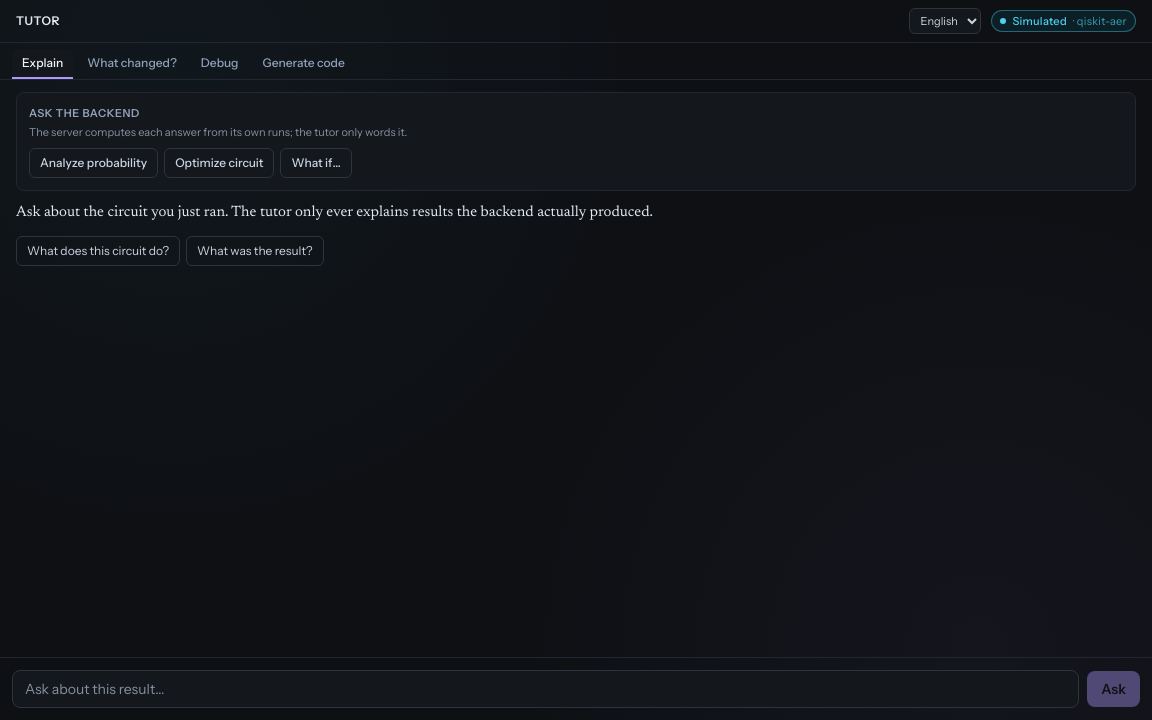
it: Analyze probability › asks with a typed target and the result id — and shows the server’s number with its provenance
The width and height of the screenshot is (1152, 720).
Step 1. Click the button "Analyze probability" → (94, 163), box [29,148,158,178]
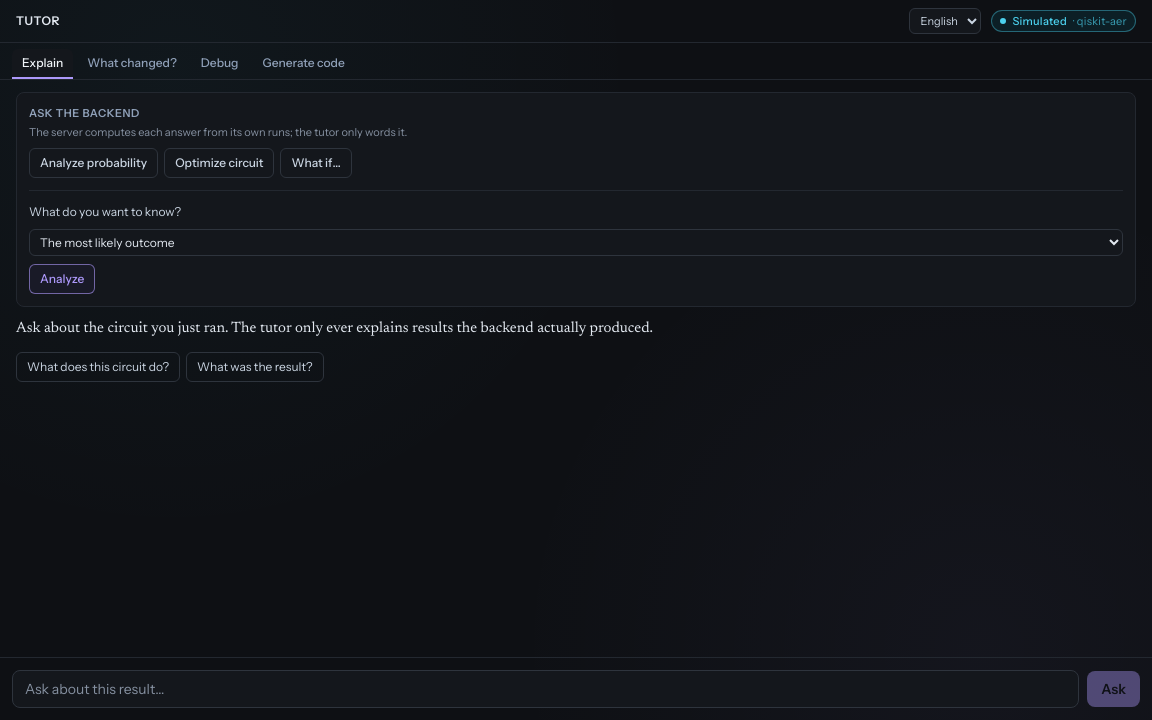
Step 2. Click the button "Analyze" → (62, 279), box [29,264,95,294]
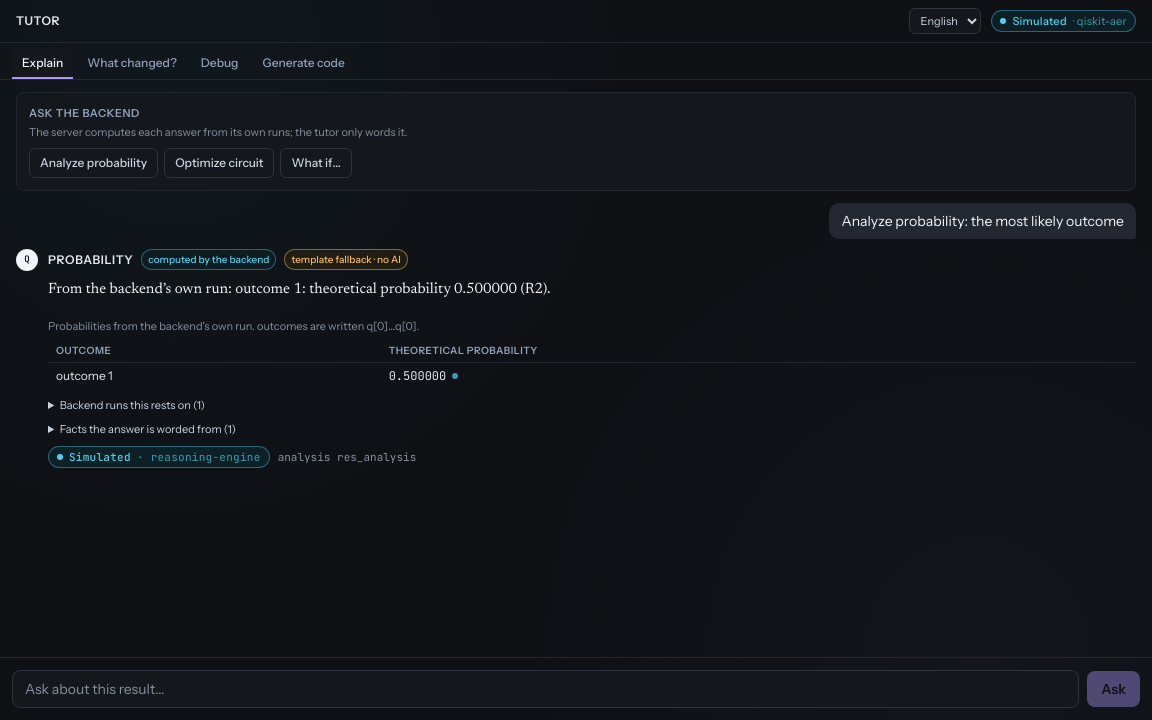
Check: the text "0.500000" is shown, box [389,367,458,385]
Check: the element "Probabilities from the backend" is shown, box [48,318,1136,389]
Check: the element with test id "reasoning-card" shows "q[0]…q[0]", box [48,319,419,333]
